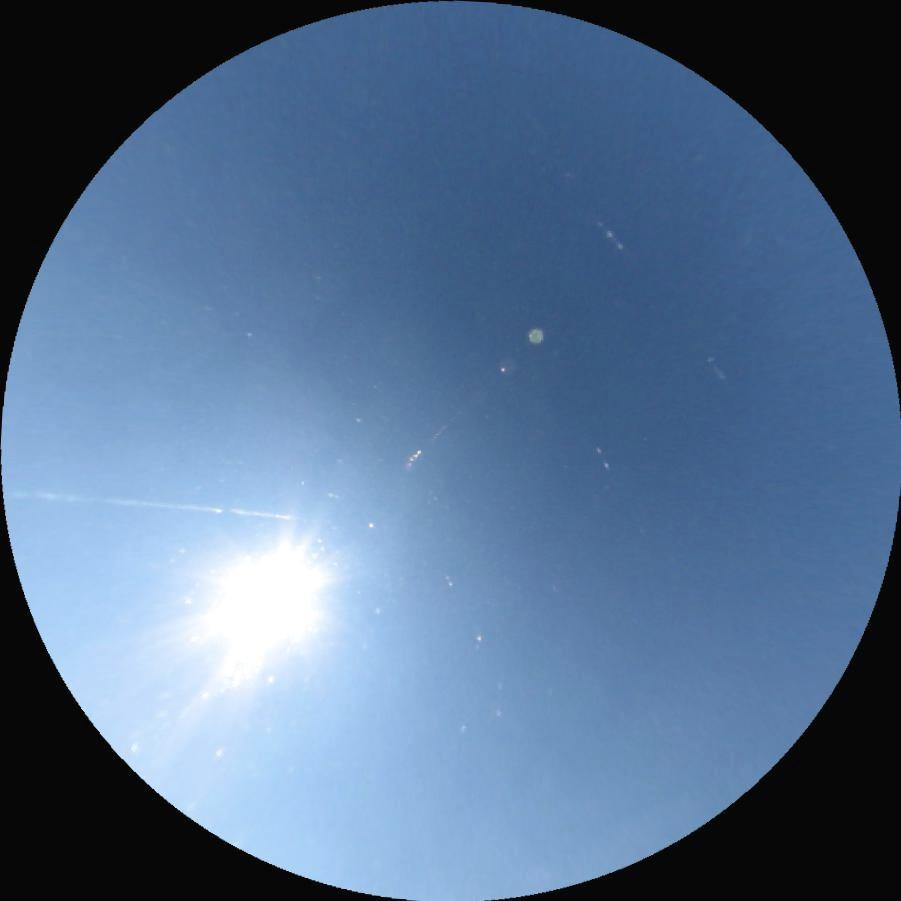parasite: (3, 487, 291, 522), (592, 217, 627, 253), (703, 349, 728, 380), (592, 441, 612, 472)
sun: (182, 524, 351, 679)
